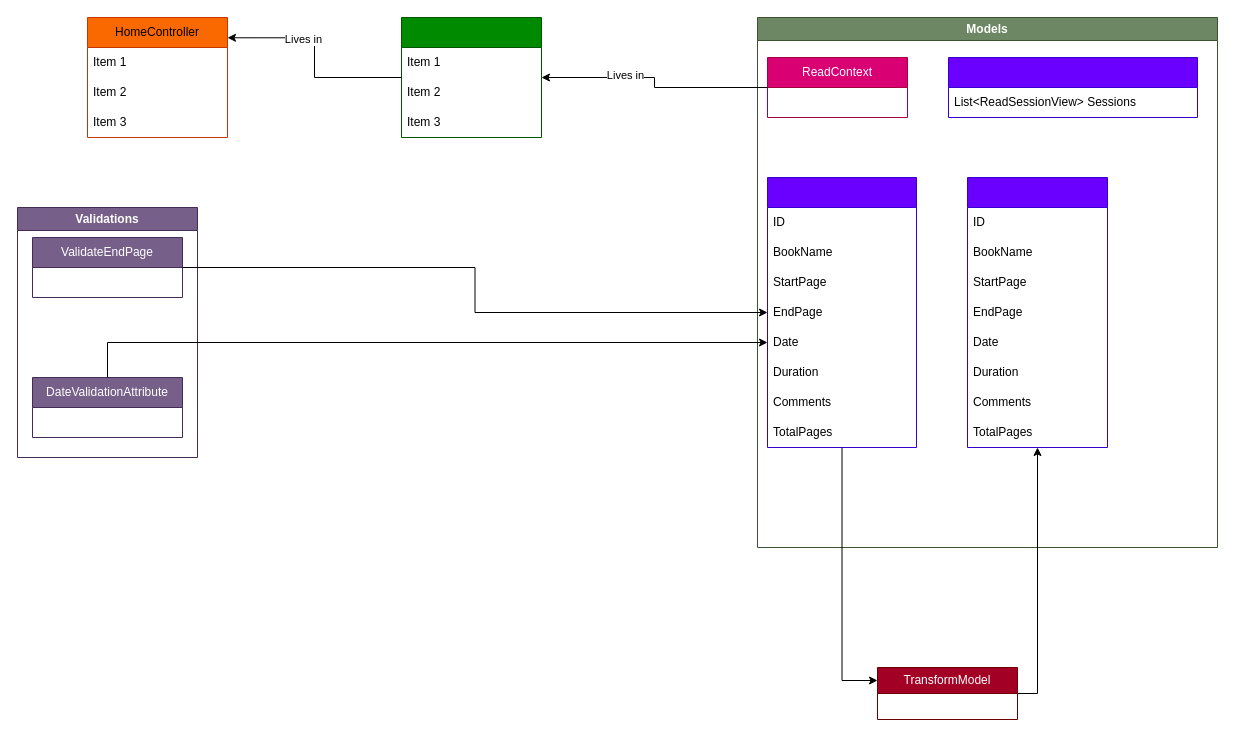
The diagram is 1235 pixels wide and 737 high, and some of its shapes have lost their labels. The box of each missing label's shape, as (x1, y1, x2, y2) in pixels:
ReadService: (400, 16, 542, 138)
ReadSession: (766, 176, 916, 448)
ReadSessionView: (966, 176, 1108, 448)
ReadSessionViewModel: (948, 56, 1198, 118)
